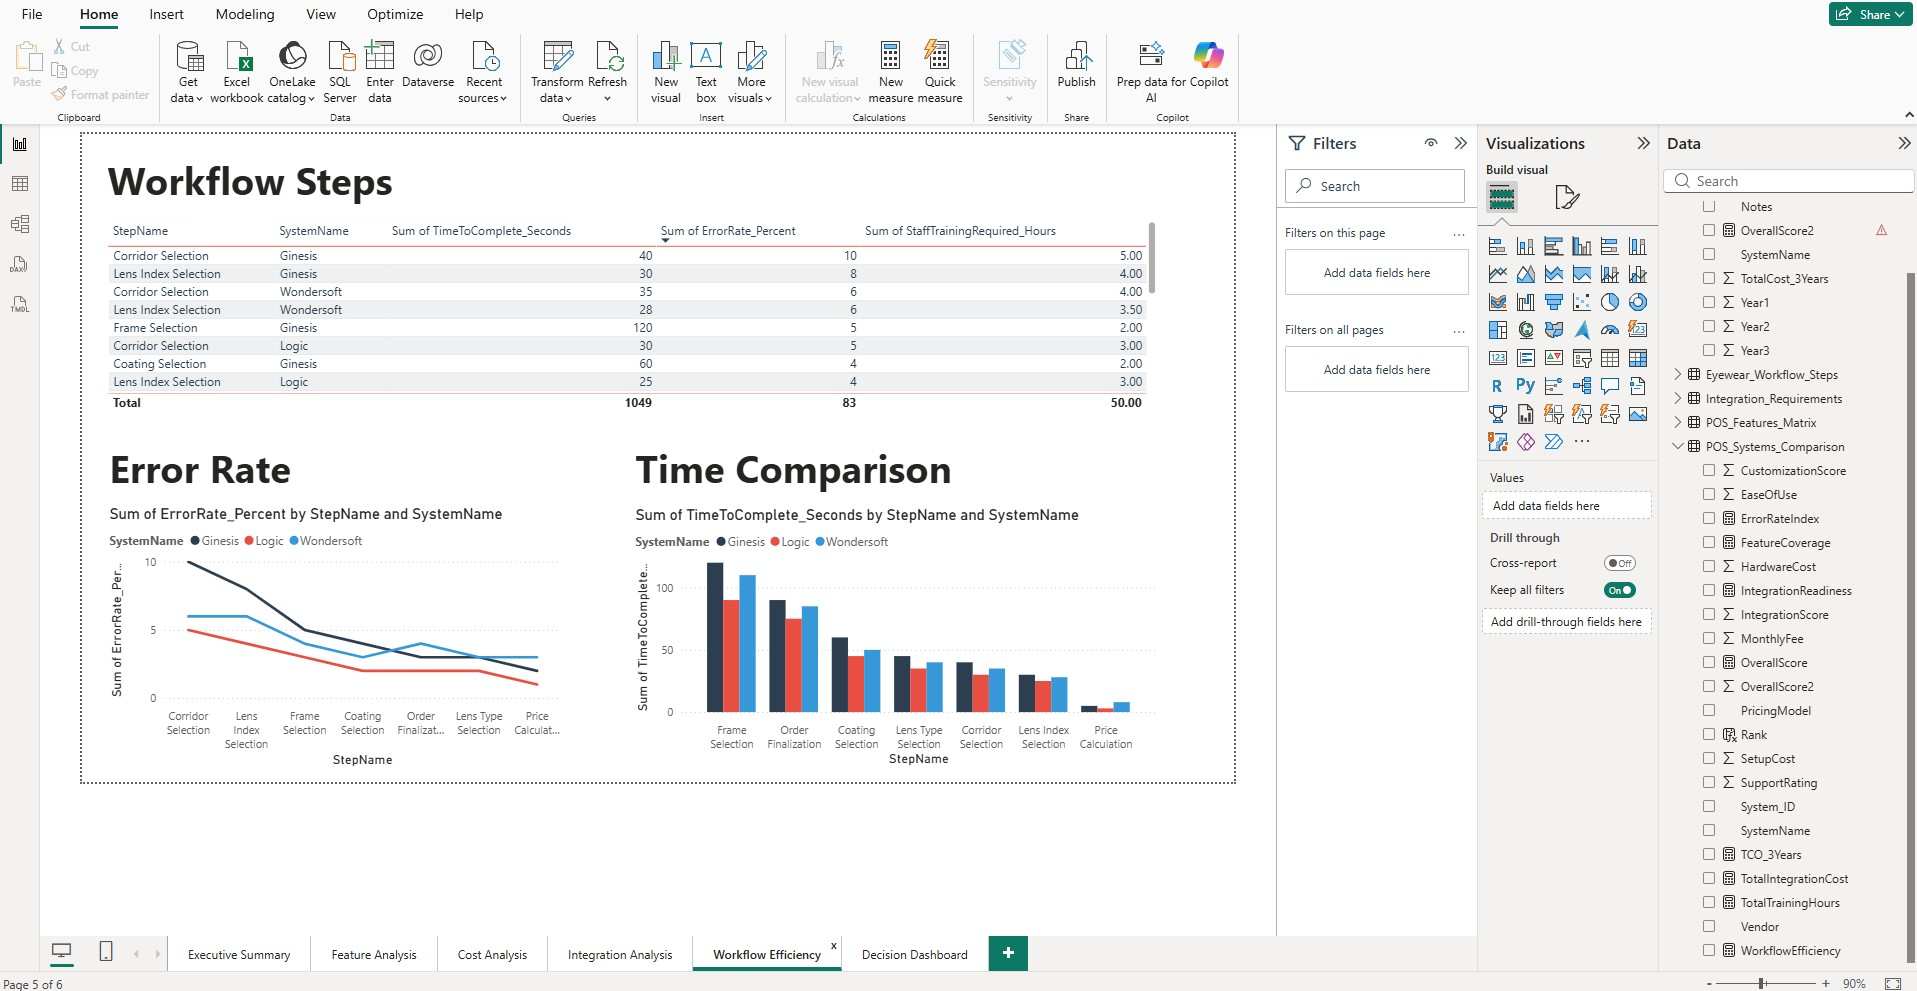

Layout of this report page (visuals, bound fields, positions):
{"tool":"powerbi","page":{"name":"Workflow Efficiency","canvas":[1280,720],"ordinal":4},"visuals":[{"type":"tableEx","fields":{"Values":["Eyewear_Workflow_Steps.StepName","Eyewear_Workflow_Steps.SystemName","Sum(Eyewear_Workflow_Steps.TimeToComplete_Seconds)","Sum(Eyewear_Workflow_Steps.ErrorRate_Percent)","Sum(Eyewear_Workflow_Steps.StaffTrainingRequired_Hours)"]},"box":[23.3,91.7,1175,220],"z":0},{"type":"clusteredColumnChart","fields":{"Category":["Eyewear_Workflow_Steps.StepName"],"Y":["Sum(Eyewear_Workflow_Steps.TimeToComplete_Seconds)"],"Series":["Eyewear_Workflow_Steps.SystemName"]},"box":[610,413.3,588.3,293.3],"z":1000},{"type":"lineChart","fields":{"Category":["Eyewear_Workflow_Steps.StepName"],"Y":["Sum(Eyewear_Workflow_Steps.ErrorRate_Percent)"],"Series":["Eyewear_Workflow_Steps.SystemName"]},"box":[25,411.7,515,295],"z":2000},{"type":"textbox","box":[23.3,16.7,515,75],"z":3000},{"type":"textbox","box":[25,336.7,515,75],"z":4000},{"type":"textbox","box":[610,336.7,515,75],"z":5000}]}

Visuals, with their boxes on the page's 1280x720 design canvas (x1, y1, x2, y2). These are canvas units, not pixel positions in the 1917x991 screenshot, which may show the page scaled, cropped or inside an application window:
tableEx - Eyewear_Workflow_Steps.StepName x Eyewear_Workflow_Steps.SystemName: box=[23, 92, 1198, 312]
clusteredColumnChart - Eyewear_Workflow_Steps.StepName x Sum(Eyewear_Workflow_Steps.TimeToComplete_Seconds): box=[610, 413, 1198, 707]
lineChart - Eyewear_Workflow_Steps.StepName x Sum(Eyewear_Workflow_Steps.ErrorRate_Percent): box=[25, 412, 540, 707]
textbox: box=[23, 17, 538, 92]
textbox: box=[25, 337, 540, 412]
textbox: box=[610, 337, 1125, 412]
